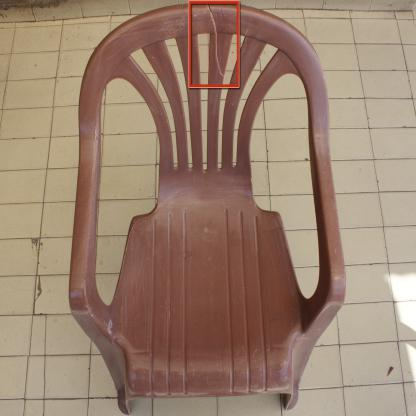chair: (62, 0, 350, 415)
